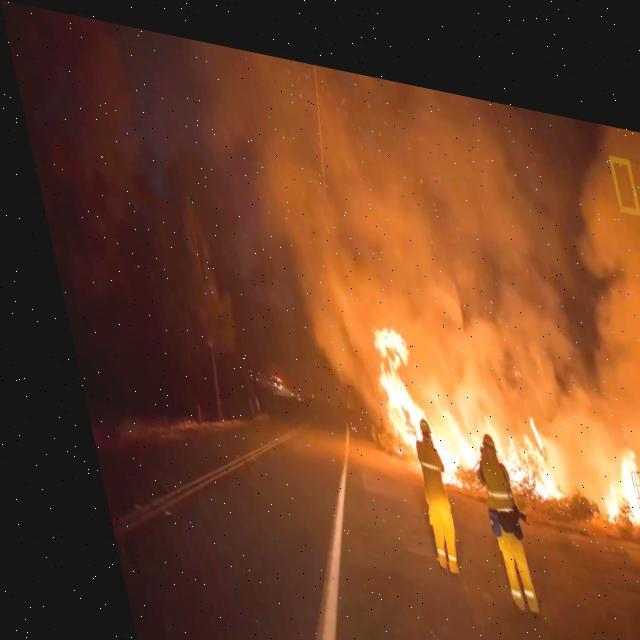Fire: (353, 316, 548, 490), (572, 412, 639, 517)
